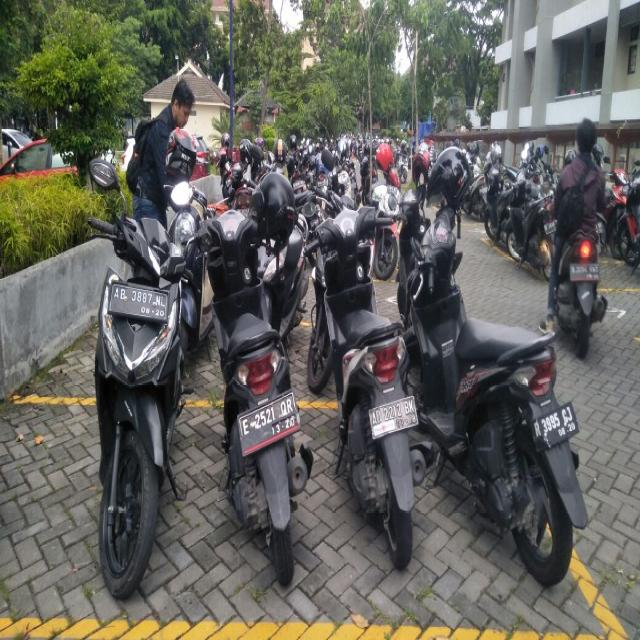plate: (238, 388, 298, 446), (110, 281, 167, 323), (532, 402, 578, 446), (368, 399, 418, 431), (569, 260, 601, 279)
